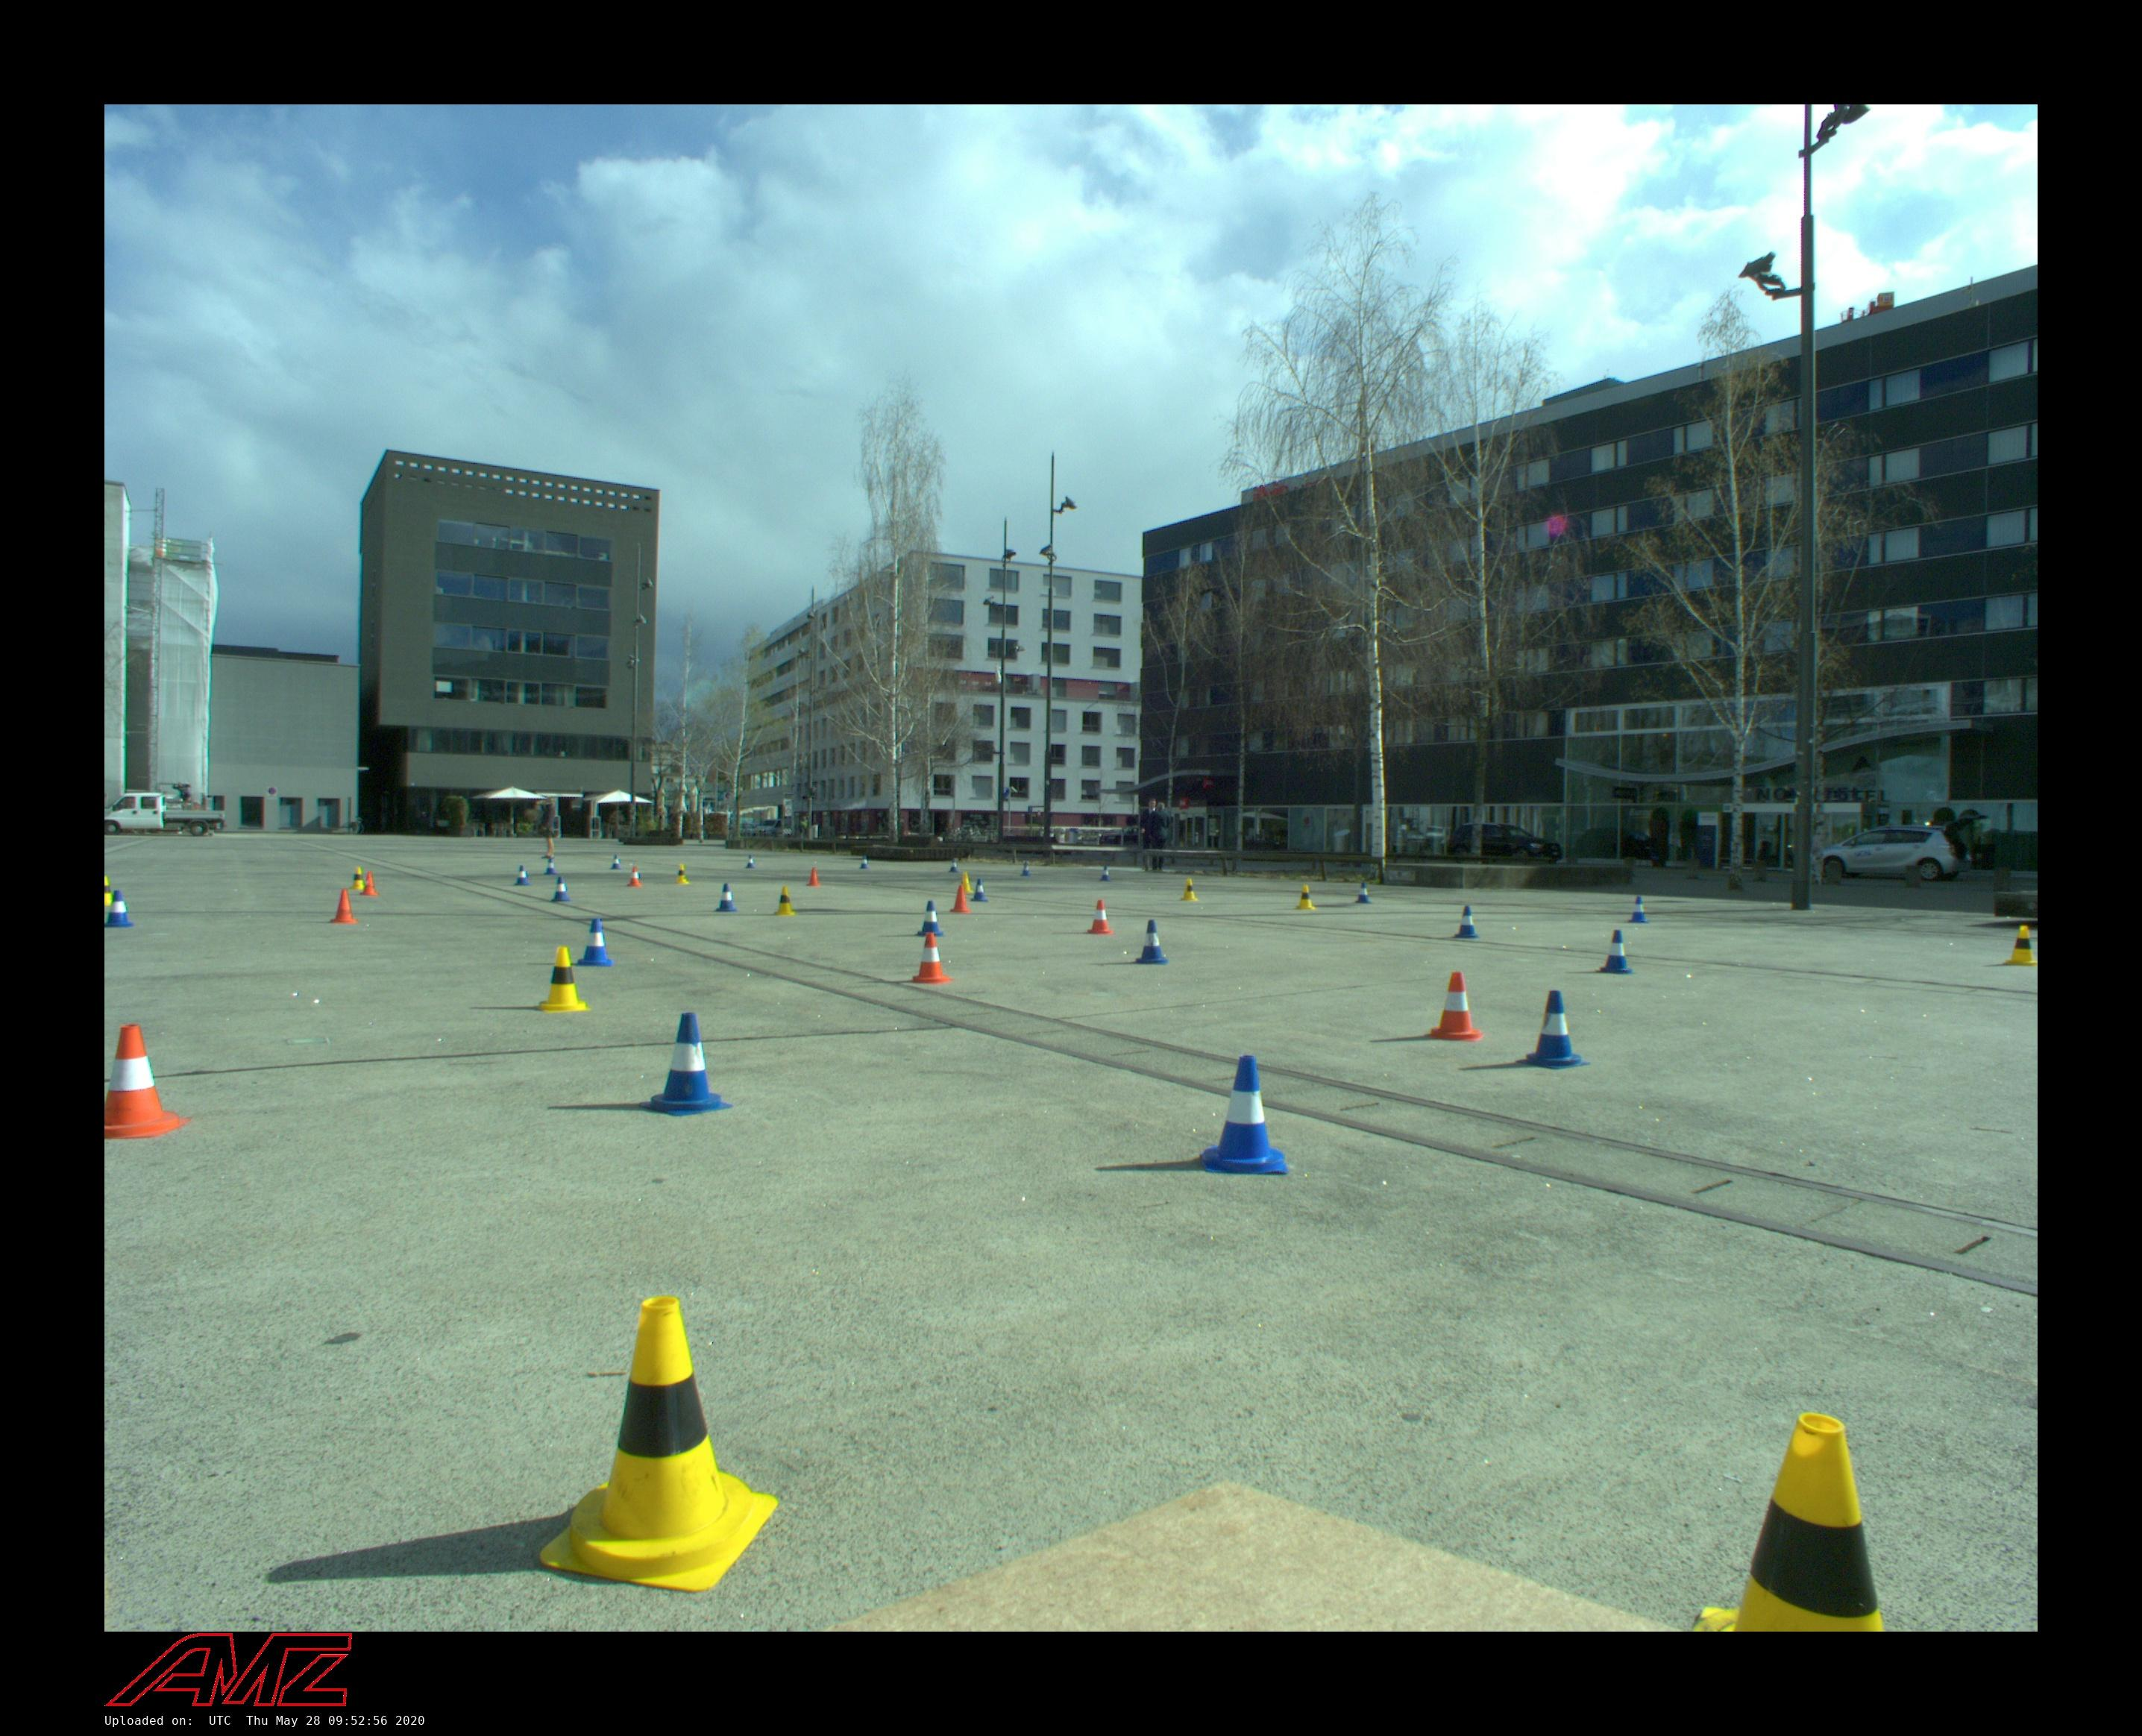blue_cone: (1199, 1054, 1288, 1176), (638, 1010, 733, 1116), (1515, 988, 1591, 1070), (578, 918, 613, 967), (1596, 930, 1637, 973), (1136, 919, 1169, 964), (105, 889, 135, 928), (916, 900, 944, 937), (1453, 905, 1481, 939), (714, 882, 739, 912), (1628, 896, 1649, 923), (551, 877, 572, 902), (971, 877, 989, 902), (1355, 882, 1373, 903), (514, 864, 532, 886), (544, 857, 558, 875), (1098, 866, 1111, 882), (611, 854, 624, 870), (1021, 861, 1031, 877), (859, 856, 870, 870), (950, 859, 960, 873), (746, 854, 755, 868)
orange_cone: (105, 1022, 193, 1139), (1424, 971, 1485, 1042), (911, 930, 955, 983), (330, 887, 358, 923), (1086, 900, 1114, 934), (950, 886, 971, 914), (360, 872, 381, 895), (627, 866, 641, 887), (806, 866, 820, 887)
yellow_cone: (537, 1295, 778, 1596), (1694, 1412, 1887, 1631), (533, 946, 592, 1015), (2002, 925, 2037, 967), (774, 886, 797, 916), (1295, 886, 1316, 909), (1180, 879, 1199, 902), (349, 866, 365, 891), (675, 863, 691, 884), (105, 875, 113, 905), (962, 872, 973, 893)
